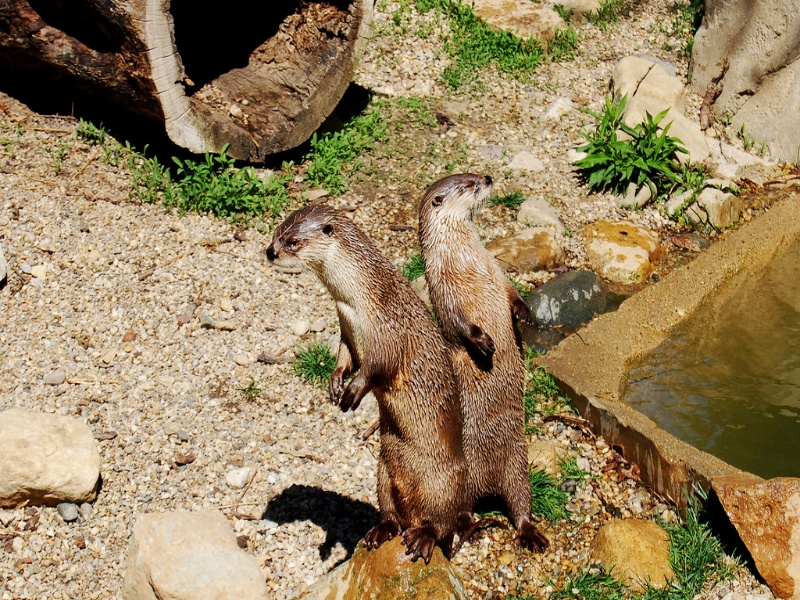minkish: (261, 202, 467, 559), (416, 171, 550, 555)
